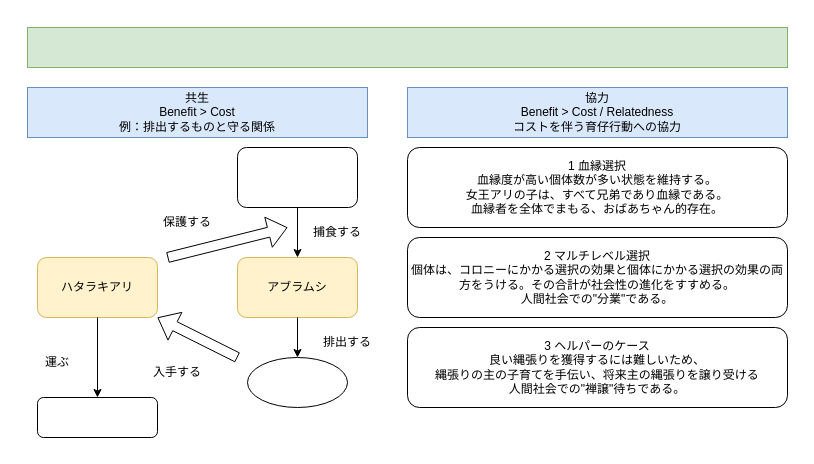
Some shapes in this 814 by 464 pixel diagram are drawn without their labels. The shapes that lost their labels are listed below. From the top down, each one's centre as x and y in pixels, then its label:
At point 407,47: "利己的な生物がなぜ協力し合えるのか 共生と協力".
At point 297,177: "捕食者 テントウムシなど".
At point 297,382: "甘露".
At point 97,417: "コロニー".
